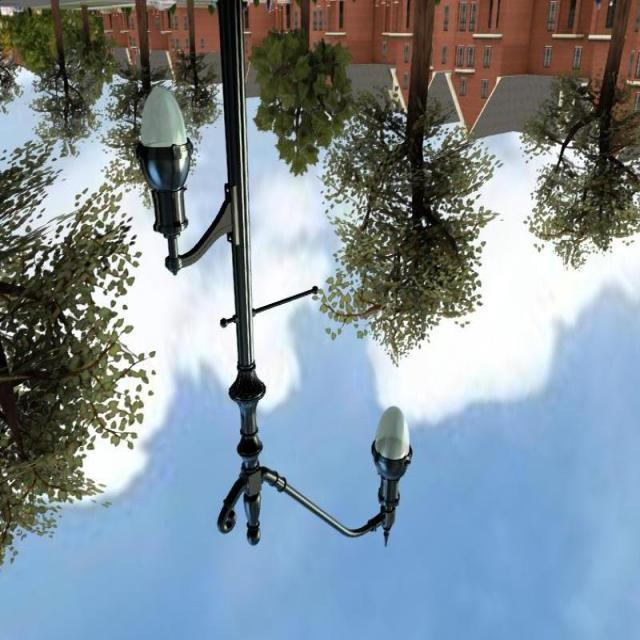off: (110, 68, 264, 290), (325, 368, 452, 550)
